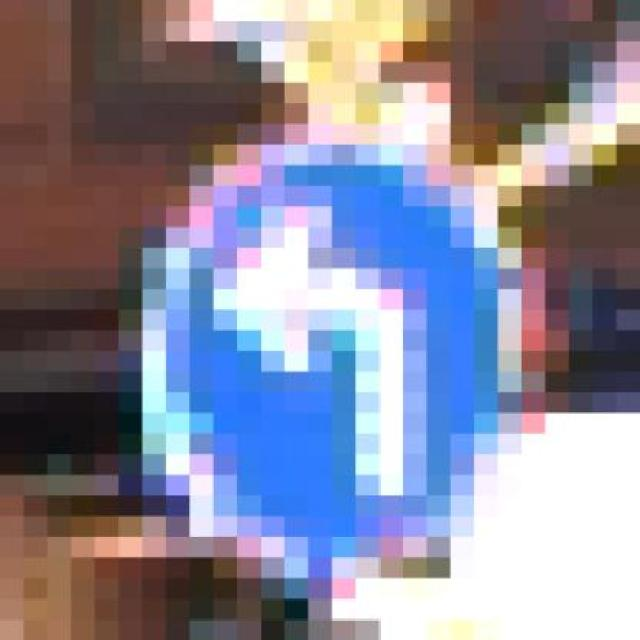Turn left ahead: (118, 103, 570, 620)
